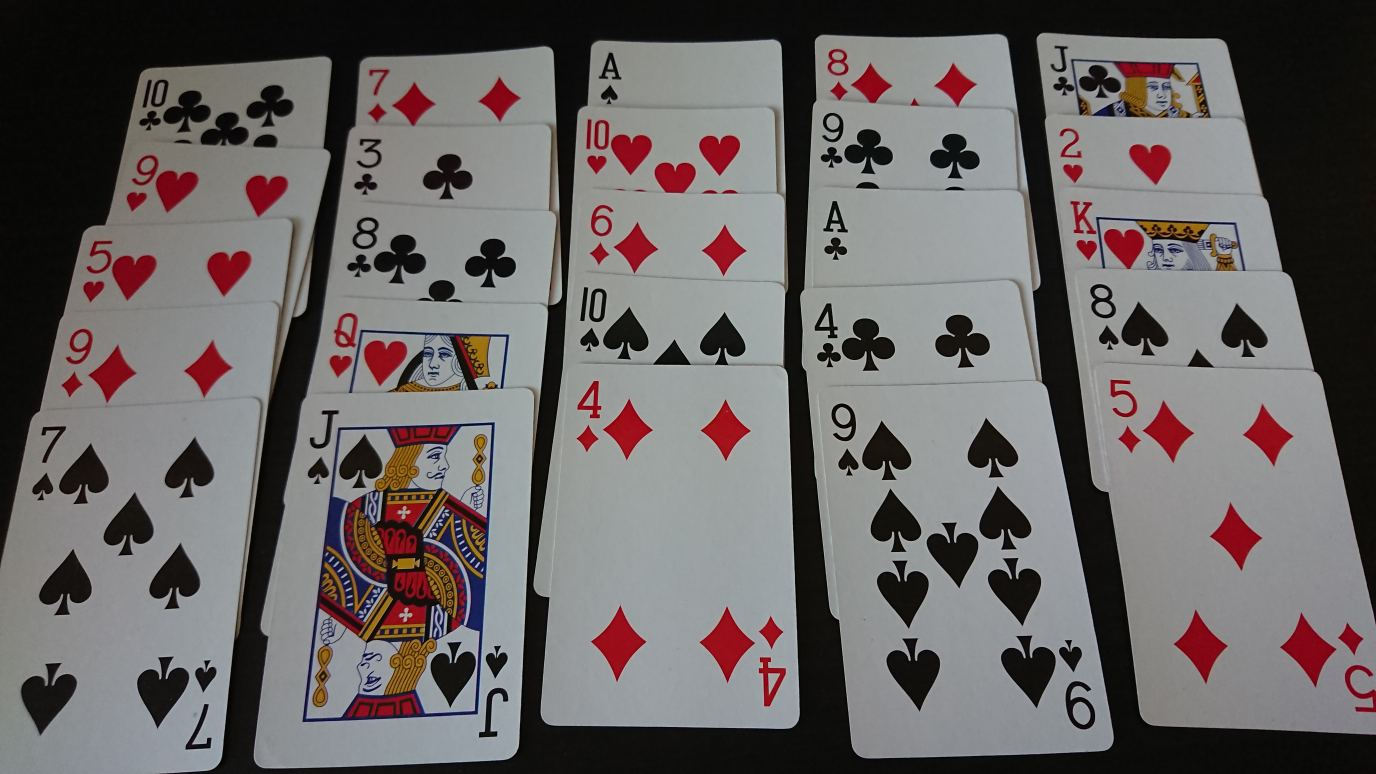10C: (134, 72, 174, 136)
10H: (581, 114, 612, 178)
10S: (574, 282, 610, 357)
2H: (1052, 123, 1090, 189)
3C: (349, 133, 389, 203)
4C: (810, 298, 845, 372)
4D: (570, 376, 605, 456)
5D: (1104, 373, 1148, 462)
5H: (78, 236, 118, 308)
6D: (581, 198, 617, 268)
7D: (360, 64, 395, 126)
7S: (25, 420, 70, 507)
8C: (342, 211, 381, 283)
8D: (823, 43, 853, 104)
8S: (1081, 279, 1123, 356)
9C: (814, 108, 847, 176)
9D: (54, 325, 96, 402)
9H: (119, 148, 161, 220)
9S: (823, 397, 865, 480)
AC: (818, 195, 853, 266)
AS: (596, 47, 625, 108)
JC: (1043, 38, 1082, 103)
JS: (304, 406, 342, 489)
KH: (1064, 196, 1102, 265)
QH: (323, 308, 363, 383)
